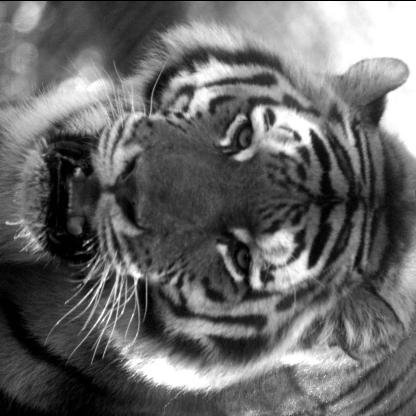tiger: (20, 23, 412, 353)
